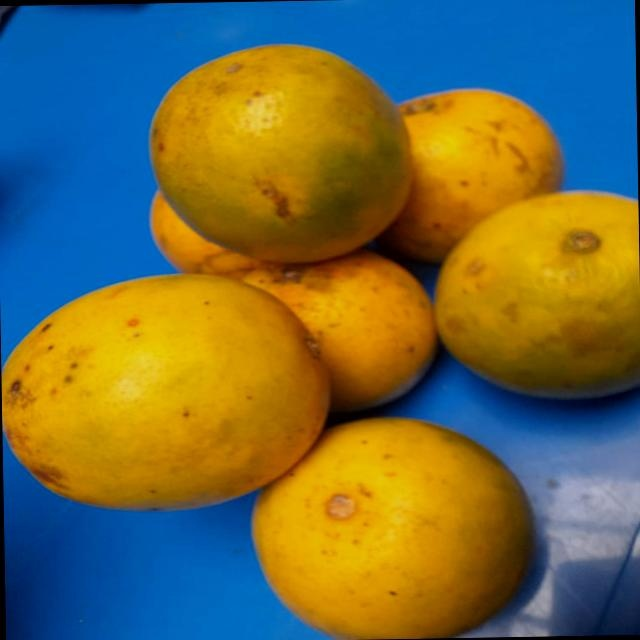agrume: (4, 270, 315, 514), (232, 410, 539, 640), (102, 37, 413, 261), (437, 185, 637, 407), (377, 65, 579, 259)
